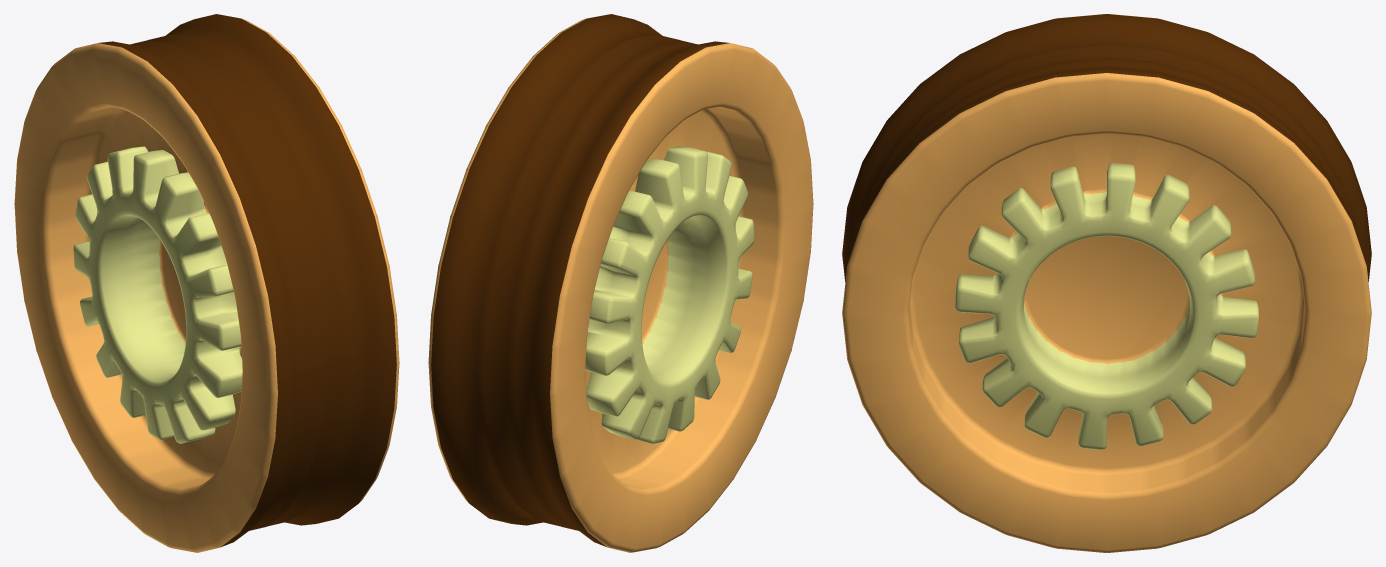
Rendered from Coin.fbx.
3 renders of one model, left to right at view 1: azimuth 30°, elevation 25°; view 2: azimuth 150°, elevation 25°; view 3: azimuth 270°, elevation 25°, orthographic.
Parts seen in each view (by area): view 1: Circle; view 2: Circle; view 3: Circle.
Part boxes in pixels (<box>): Circle: <box>14,14,399,552</box>; Circle: <box>428,14,813,552</box>; Circle: <box>842,14,1371,552</box>.
Bounding box in the file's own units: 57.37 × 200 × 200.
